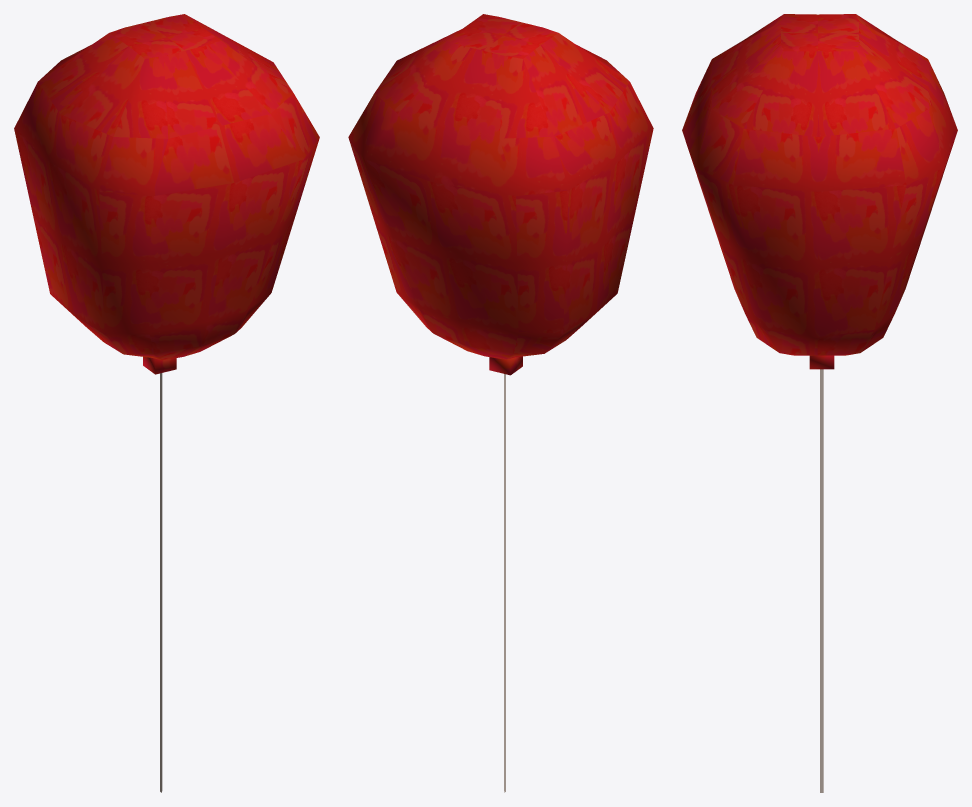
Rendered from Balloon_red01.fbx.
The picture shows the model from 3 angles, left to right: view 1: azimuth 30°, elevation 25°; view 2: azimuth 150°, elevation 25°; view 3: azimuth 270°, elevation 25°; orthographic projection.
Visible parts, largest first — view 1: Balloon_red01; view 2: Balloon_red01; view 3: Balloon_red01.
Boxes of the visible parts, <box> form: Balloon_red01: <box>14,14,319,792</box>; Balloon_red01: <box>348,14,653,792</box>; Balloon_red01: <box>682,14,957,792</box>.
Size of the model in its own units: 0.6351 by 1.91 by 0.6273.
2 materials, 1 textured.
